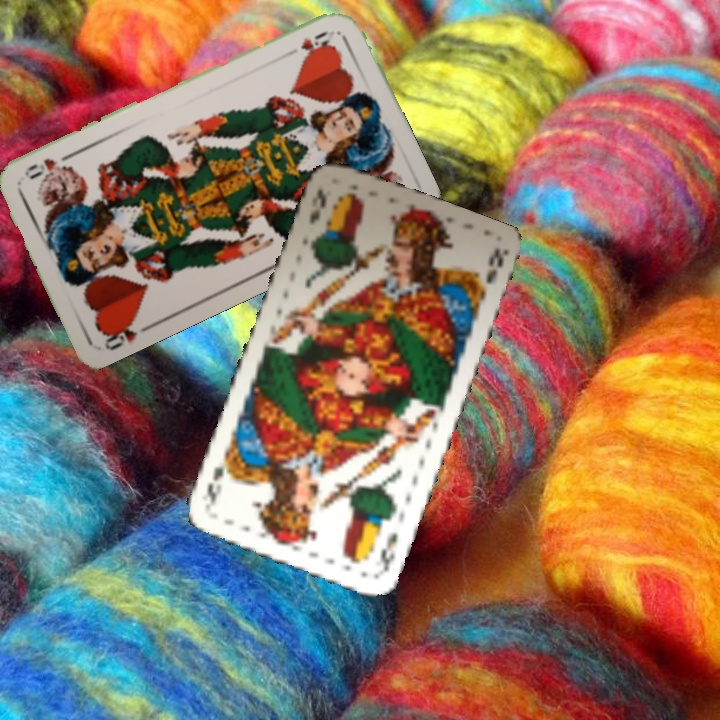EK: (376, 528, 401, 577), (305, 184, 329, 228)
HO: (98, 312, 155, 354), (281, 27, 332, 59)
